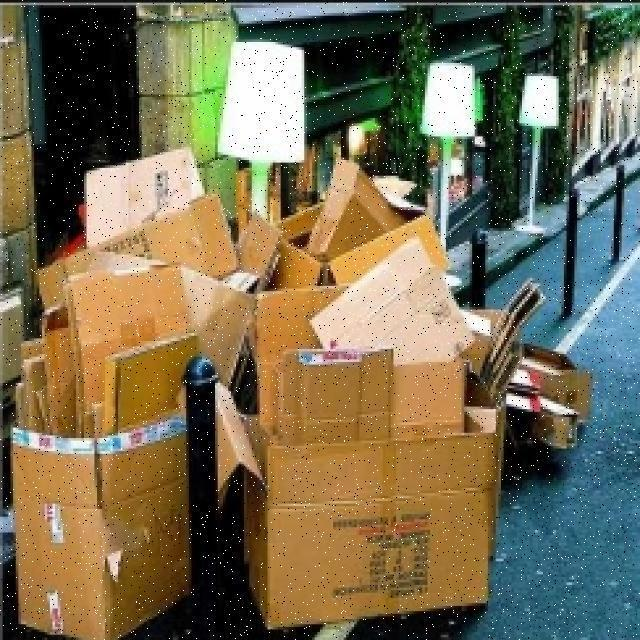box: (240, 351, 490, 638), (4, 295, 189, 639), (247, 179, 440, 309)
